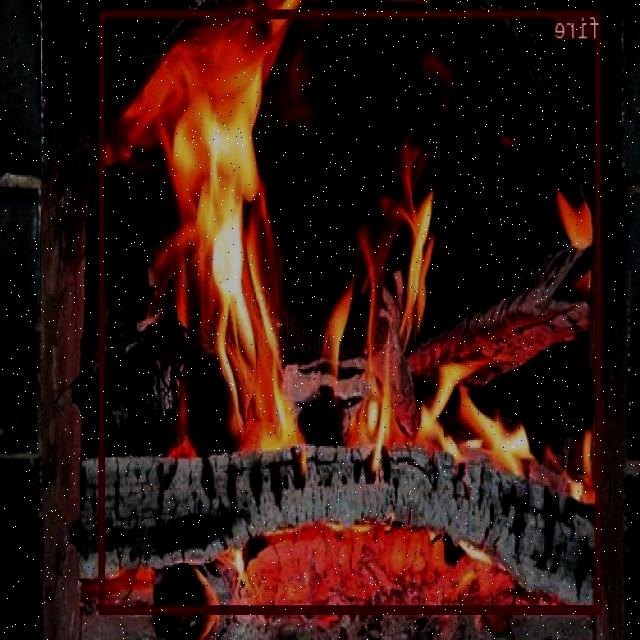fire: (101, 8, 602, 613)
